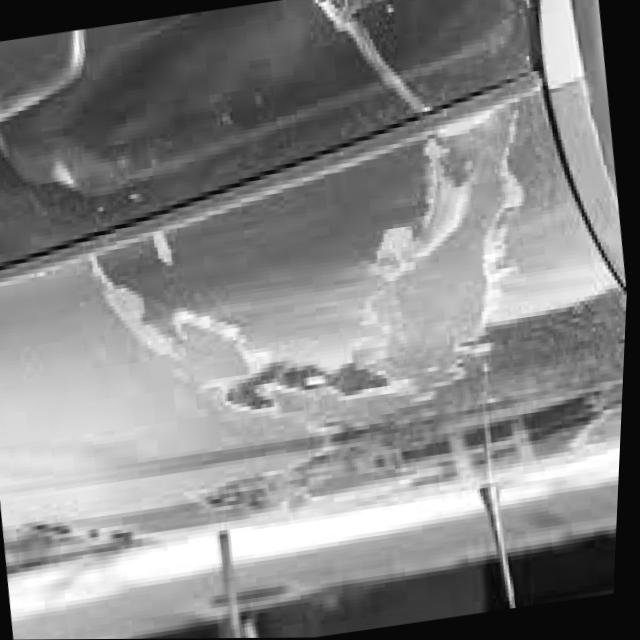Paint-fading: (169, 112, 520, 418)
